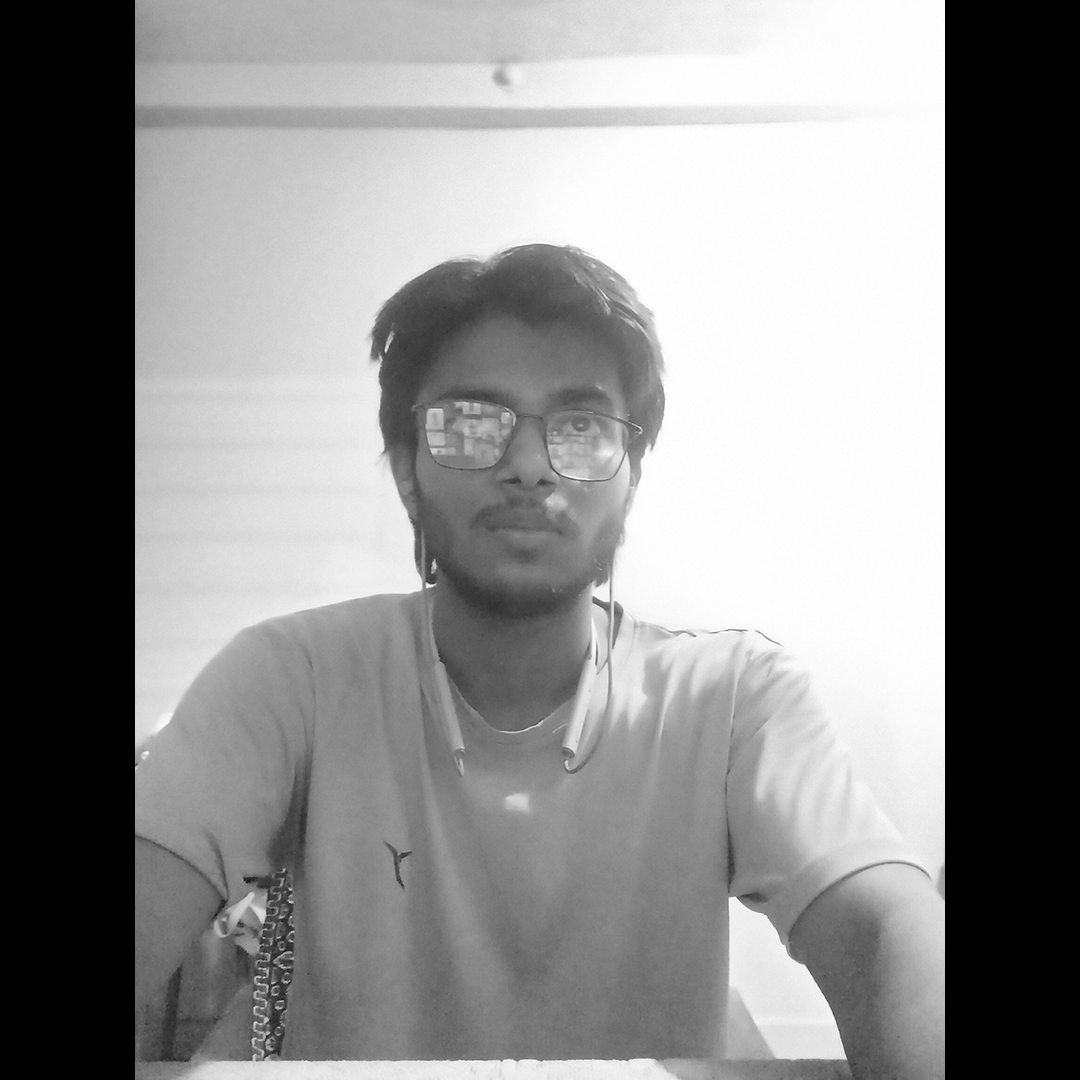Focused: (245, 126, 844, 992)
